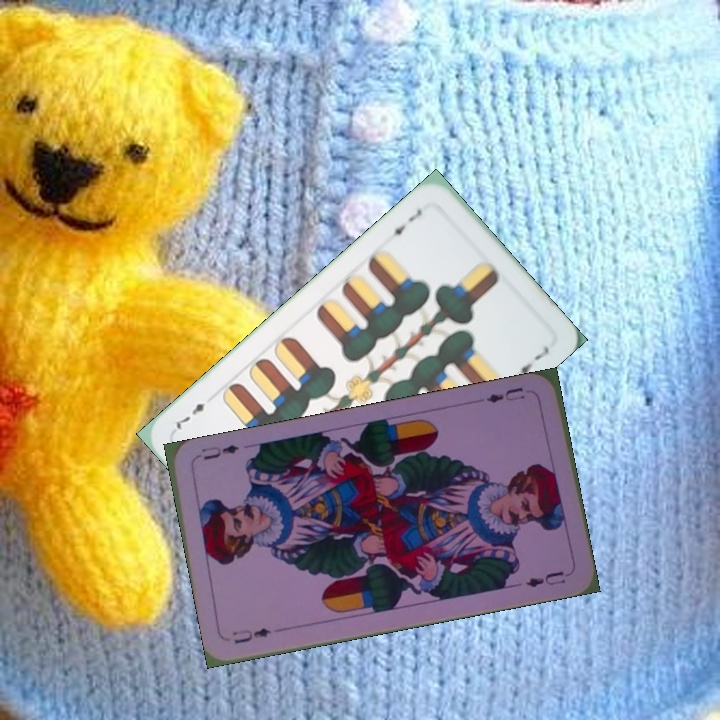E7: (384, 205, 425, 240)
EU: (482, 383, 527, 406), (229, 624, 274, 647)
